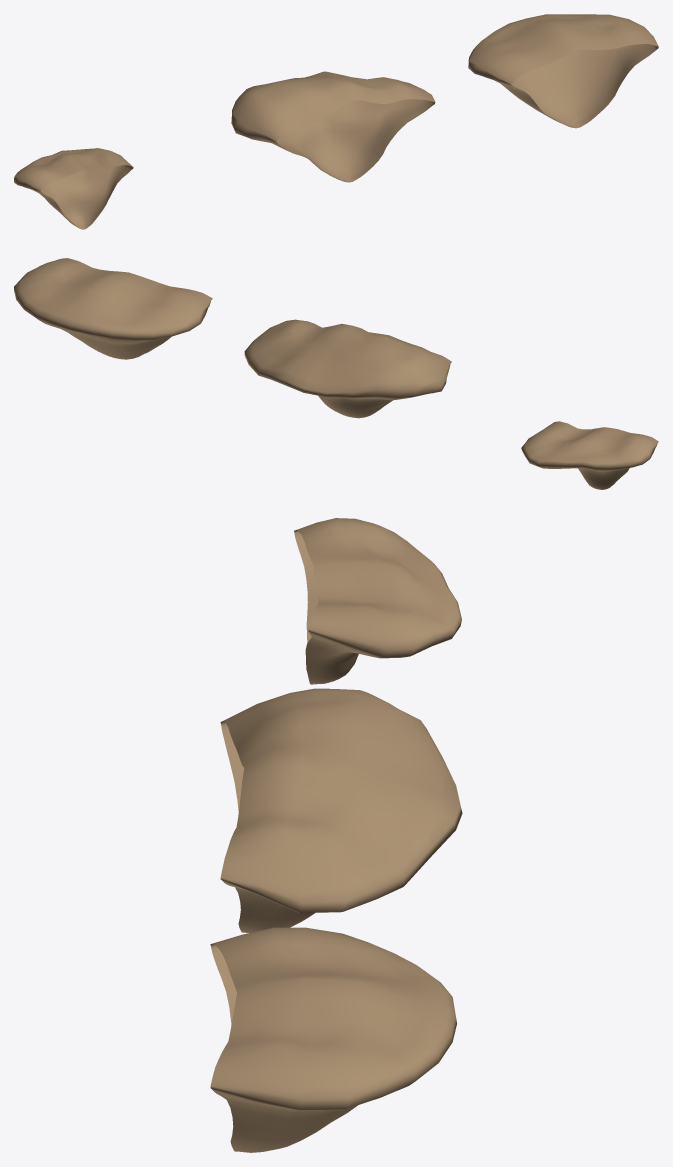
File: table corals ALL.fbx
3 renders of one model, top to bottom at view 1: azimuth 30°, elevation 25°; view 2: azimuth 150°, elevation 25°; view 3: azimuth 270°, elevation 25°, orthographic. The views are drawn at different scales.
Parts seen in each view (by area): view 1: table_coral1, table_coral2, table_coral3; view 2: table_coral2, table_coral1, table_coral3; view 3: table_coral2, table_coral1, table_coral3.
Part boxes in pixels (x1,y1,x2,y2): table_coral1: [468, 14, 658, 128]; table_coral2: [231, 71, 435, 182]; table_coral3: [14, 148, 133, 229]; table_coral2: [244, 319, 451, 418]; table_coral1: [14, 258, 212, 359]; table_coral3: [521, 421, 658, 489]; table_coral2: [220, 688, 462, 932]; table_coral1: [210, 927, 456, 1152]; table_coral3: [294, 518, 461, 684].
Bounding box in the file's own units: 1.07 × 0.1518 × 0.1901.
